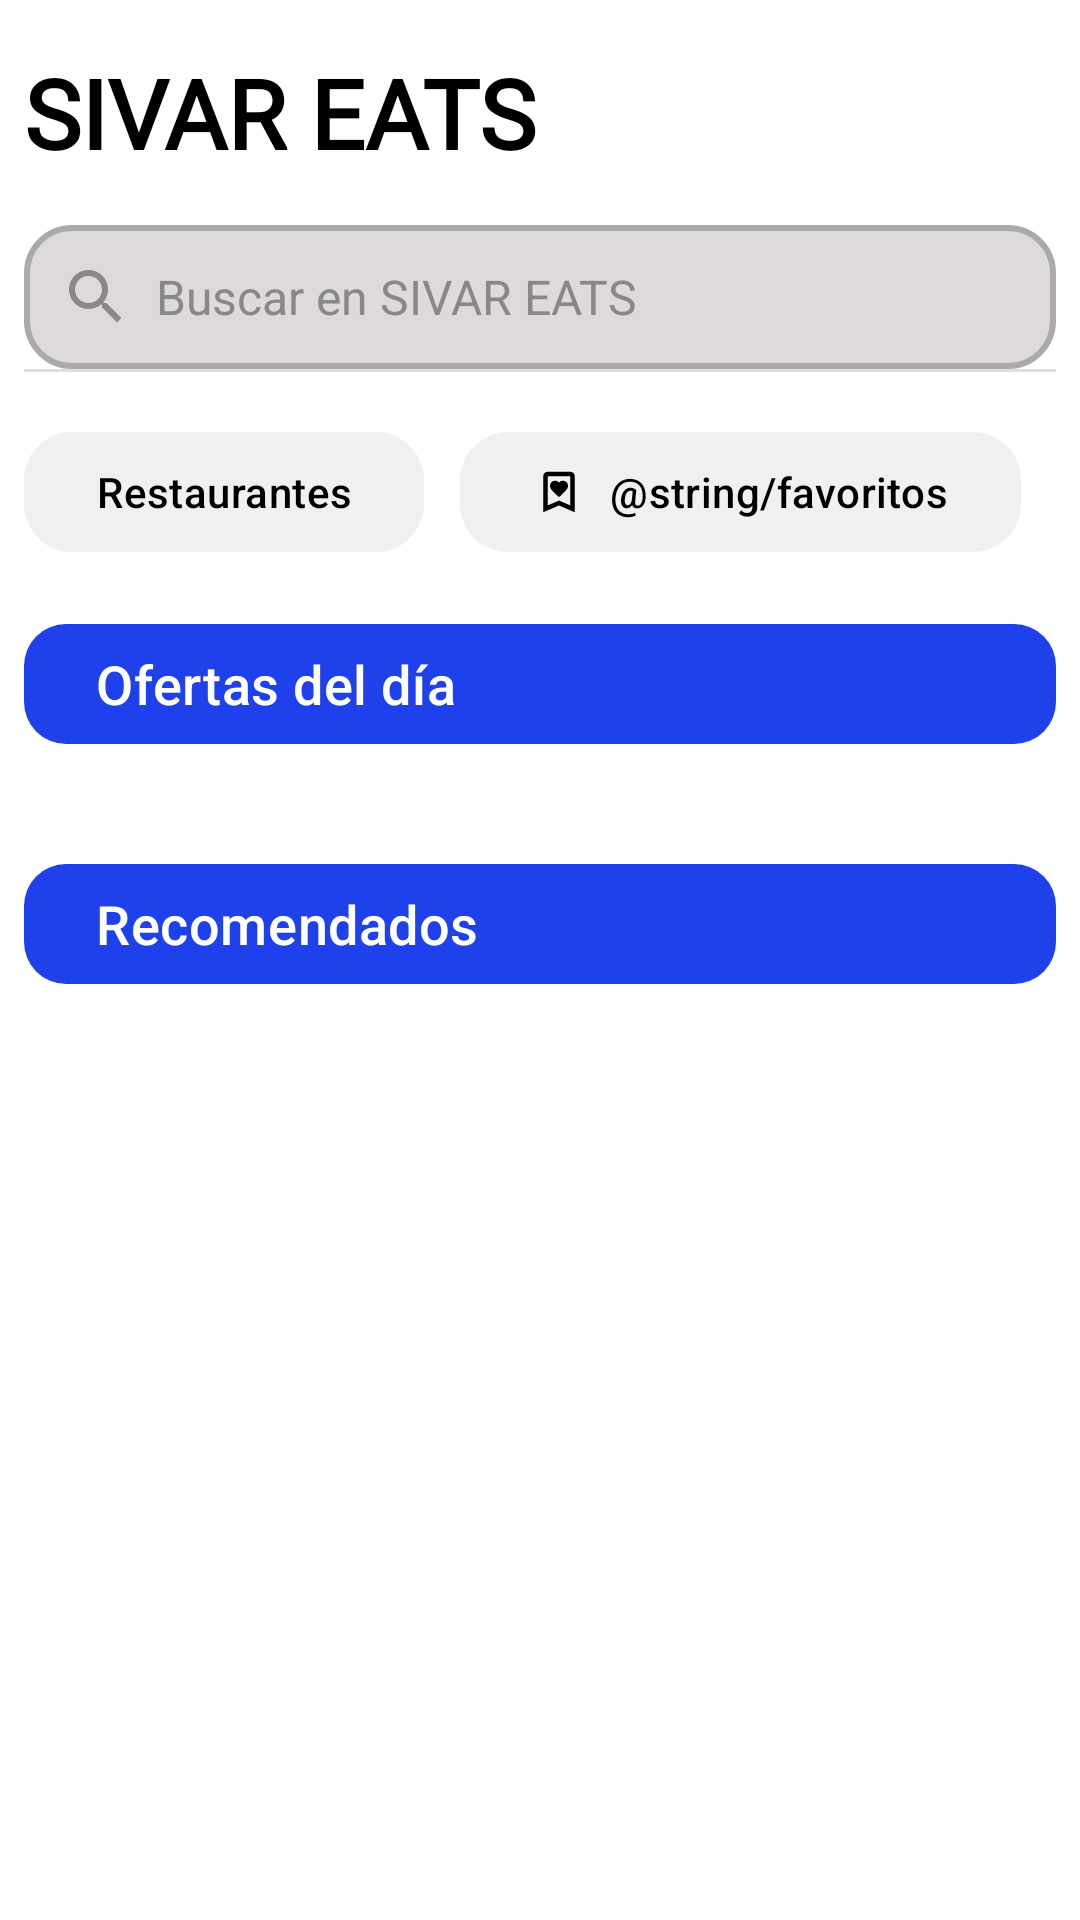

Icons on this 1080px x 1920px Android screen, each with the point to tap as (x,y):
search: (95,296)
